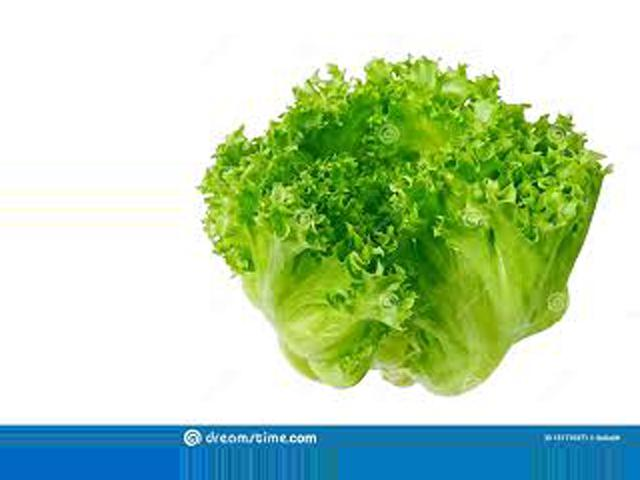lettuce: (218, 68, 576, 398)
